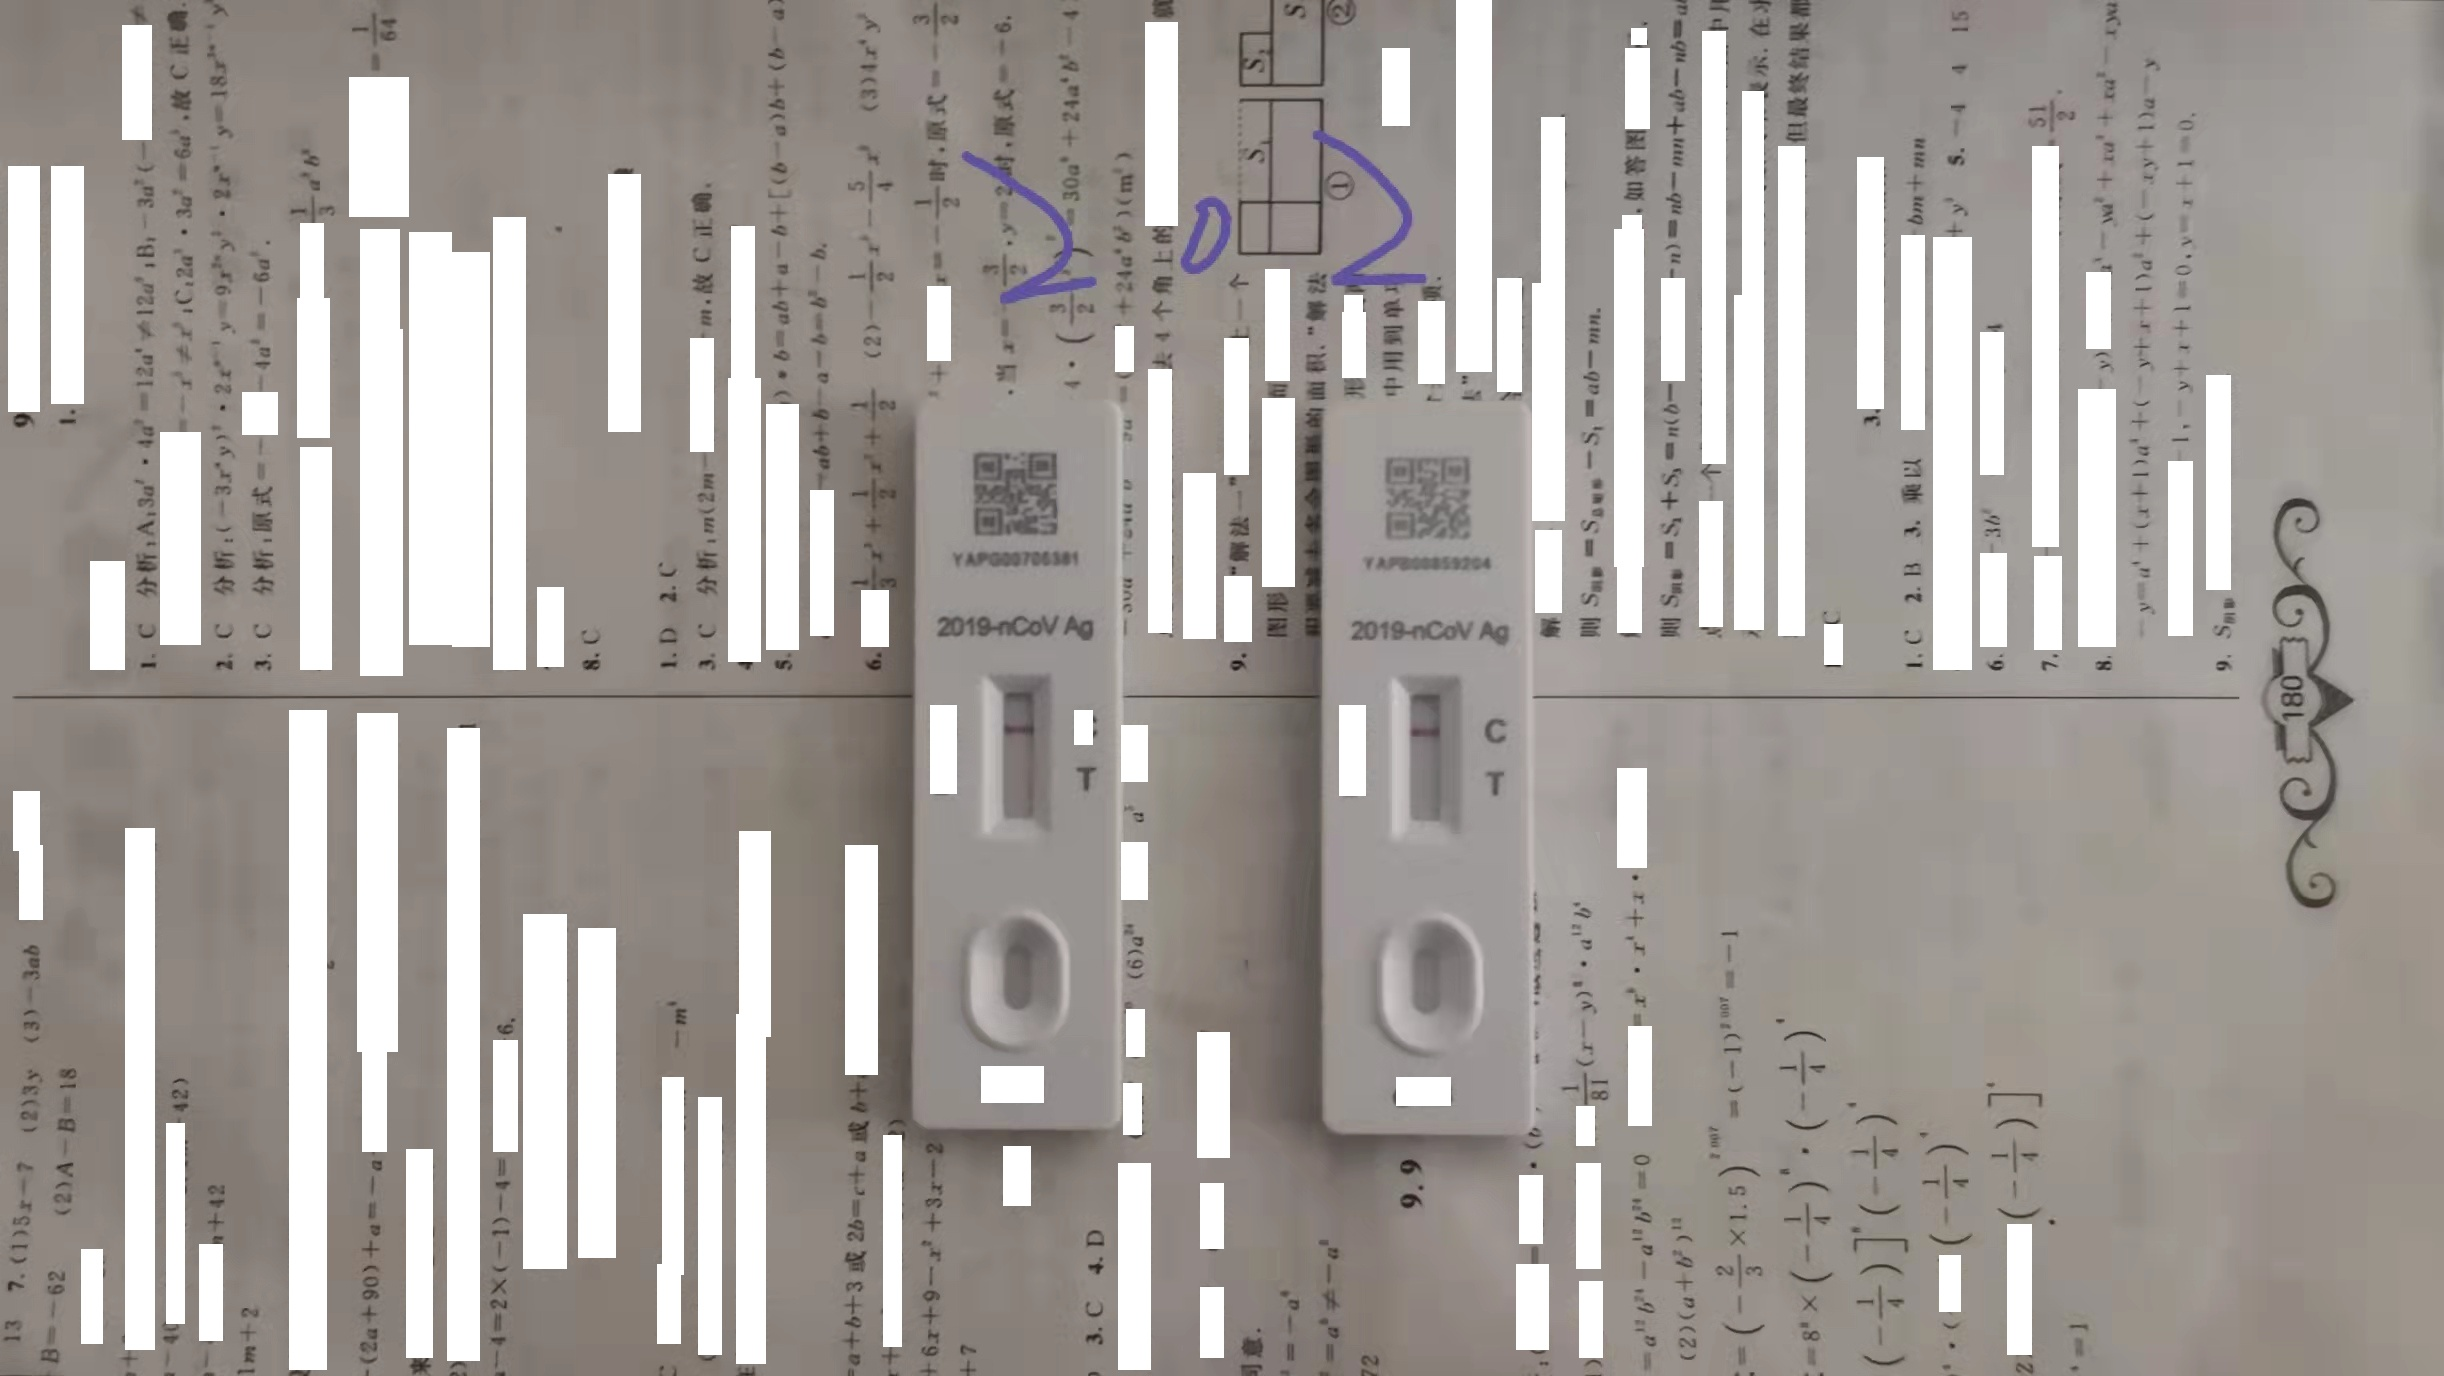negative: (984, 671, 1047, 837), (1397, 675, 1459, 837)
